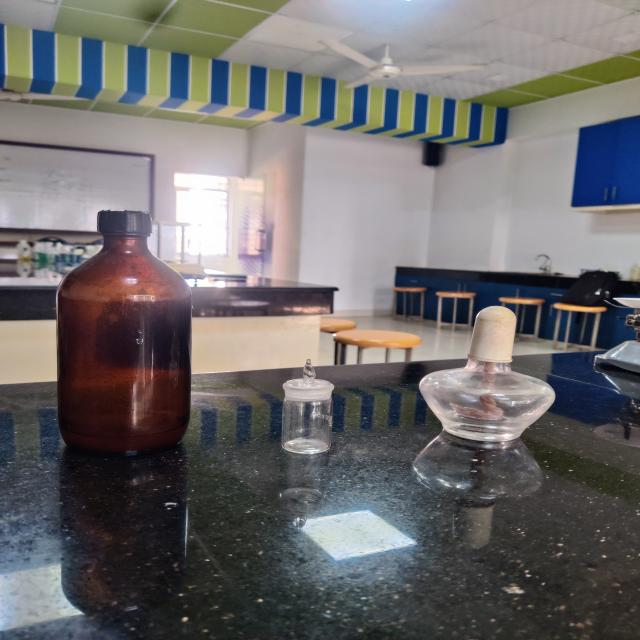Nessler_Reagent_Bottle: (44, 201, 235, 467)
Spirit_Lamp: (414, 297, 563, 455)
Weighing_Bottle: (270, 353, 352, 466)
